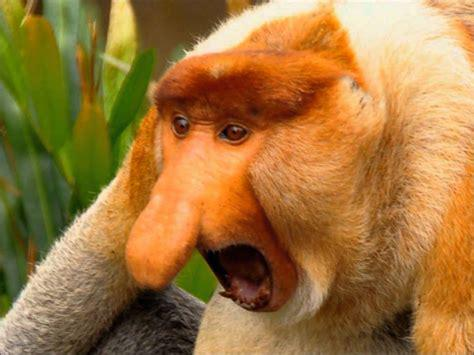monkey: (1, 1, 474, 355)
